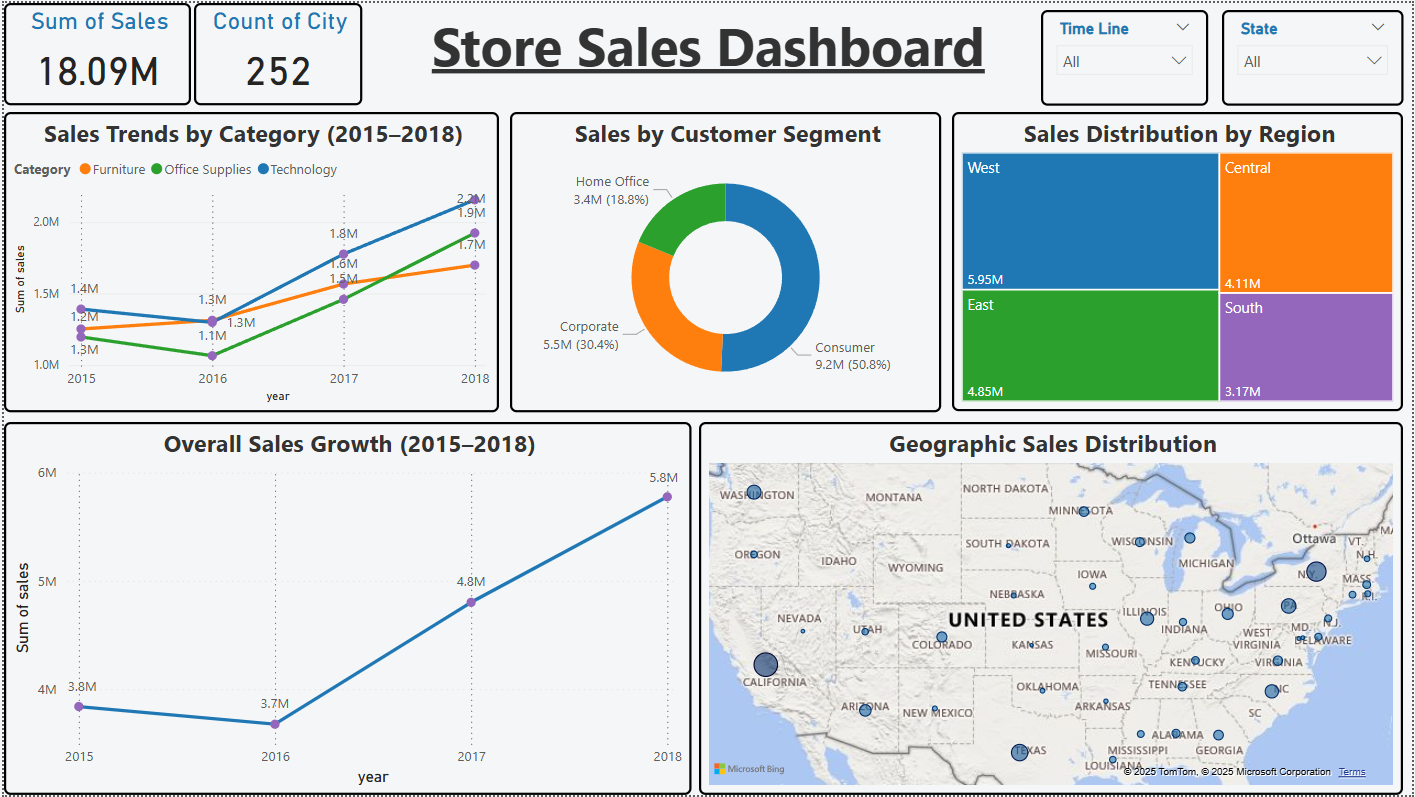

The dashboard page shown, as its layout file describes it:
{"tool":"powerbi","page":{"name":"Page 1","canvas":[1280,720],"ordinal":0},"visuals":[{"type":"treemap","title":"Sales Distribution by Region","fields":{"Group":["public customers_dim.region Hierarchy.region","public customers_dim.region Hierarchy.state"],"Values":["Sum(public sales_facts.sales)"]},"box":[862,99,410,272],"z":0},{"type":"lineChart","title":"Overall Sales Growth (2015–2018)","fields":{"Y":["Sum(public sales_facts.sales)"],"Category":["public time_dim.year Hierarchy.year","public time_dim.year Hierarchy.quarter"]},"box":[0,381,625,339],"z":1000},{"type":"lineChart","title":"Sales Trends by Category (2015–2018)","fields":{"Category":["public time_dim.year"],"Y":["Sum(public sales_facts.sales)"],"Series":["public products_dim.category"]},"box":[0,99,450,273],"z":2000},{"type":"map","title":"Geographic Sales Distribution","fields":{"Size":["Sum(public sales_facts.sales)"],"Category":["public customers_dim.state"]},"box":[632,381,640,339],"z":3000},{"type":"card","title":"Sum of Sales","fields":{"Values":["Sum(public sales_facts.sales)"]},"box":[0,0,170,93],"z":4000},{"type":"slicer","fields":{"Values":["public customers_dim.state"]},"box":[1107,6,165,87],"z":5000},{"type":"donutChart","title":"Sales by Customer Segment","fields":{"Category":["public customers_dim.segment"],"Y":["Sum(public sales_facts.sales)"]},"box":[460,99,392,273],"z":6000},{"type":"textbox","box":[337,0,606,93],"z":7000},{"type":"card","title":"Count of City","fields":{"Values":["Count(public customers_dim.city)"]},"box":[173,0,153,93],"z":8000},{"type":"slicer","title":"Time Line","fields":{"Values":["public time_dim.year Hierarchy.year","public time_dim.year Hierarchy.quarter","public time_dim.year Hierarchy.month"]},"box":[943,6,152,87],"z":9000}]}

Visuals, with their boxes in screenshot pixels (x1, y1, x2, y2), scaled from the page's 1280x720 canvas onto the 1415x797 screenshot:
"Sales Distribution by Region" treemap: 953/110/1406/411
"Overall Sales Growth (2015–2018)" lineChart: 0/422/691/796
"Sales Trends by Category (2015–2018)" lineChart: 0/110/497/412
"Geographic Sales Distribution" map: 699/422/1406/796
"Sum of Sales" card: 0/0/188/103
slicer - public customers_dim.state: 1224/7/1406/103
"Sales by Customer Segment" donutChart: 509/110/942/412
textbox: 373/0/1042/103
"Count of City" card: 191/0/360/103
"Time Line" slicer: 1042/7/1210/103
